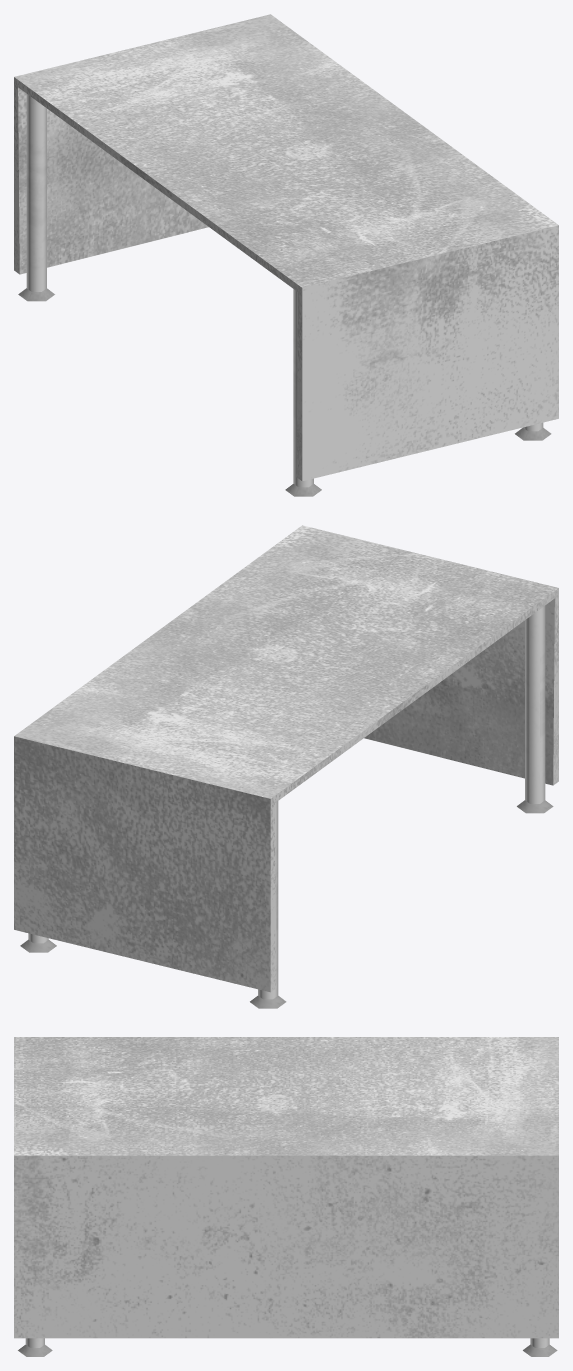
Rendered from Kitchen Table Long.fbx.
3 renders of one model, top to bottom at view 1: azimuth 30°, elevation 25°; view 2: azimuth 150°, elevation 25°; view 3: azimuth 270°, elevation 25°, orthographic. The views are drawn at different scales.
Parts seen in each view (by area): view 1: Circle.008; view 2: Circle.008; view 3: Circle.008.
Boxes of the visible parts, <box> form: Circle.008: <box>14,14,558,496</box>; Circle.008: <box>14,525,558,1008</box>; Circle.008: <box>14,1037,558,1356</box>.
Size of the model in its own units: 78.94 by 62.37 by 153.
